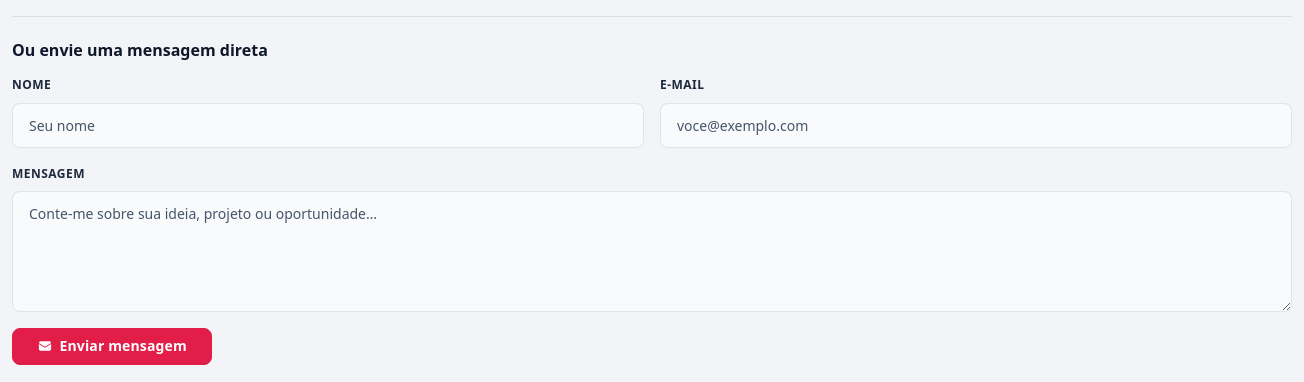
Test case: ContactForm › exibe erro quando o envio falha
Step 1. Type "Maria" into the field labelled "Nome" → (328, 125), box [12,103,644,148]
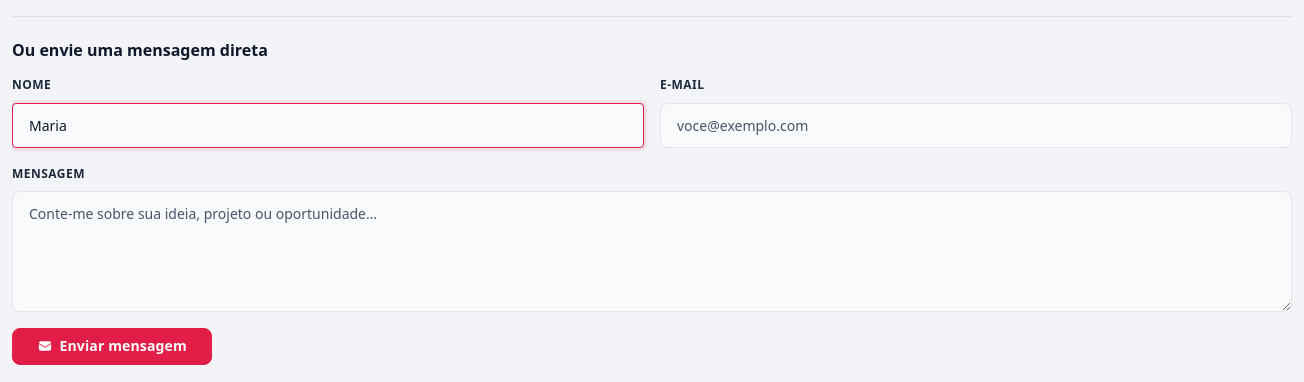
Step 2. Type "maria@exemplo.com" into the field labelled "E-mail" → (976, 125), box [660,103,1292,148]
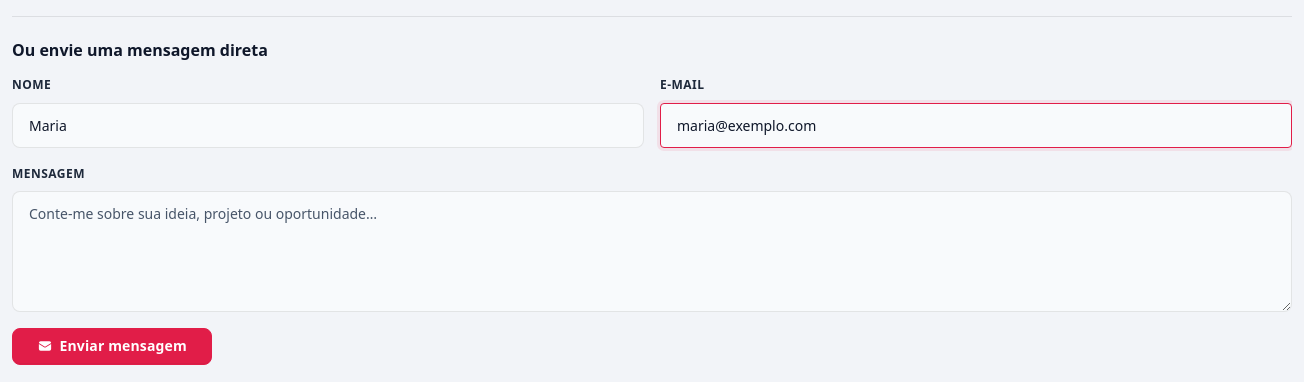
Step 3. Type "Mensagem longa o suficiente." into the text box labelled "Mensagem" → (652, 251), box [12,191,1292,312]
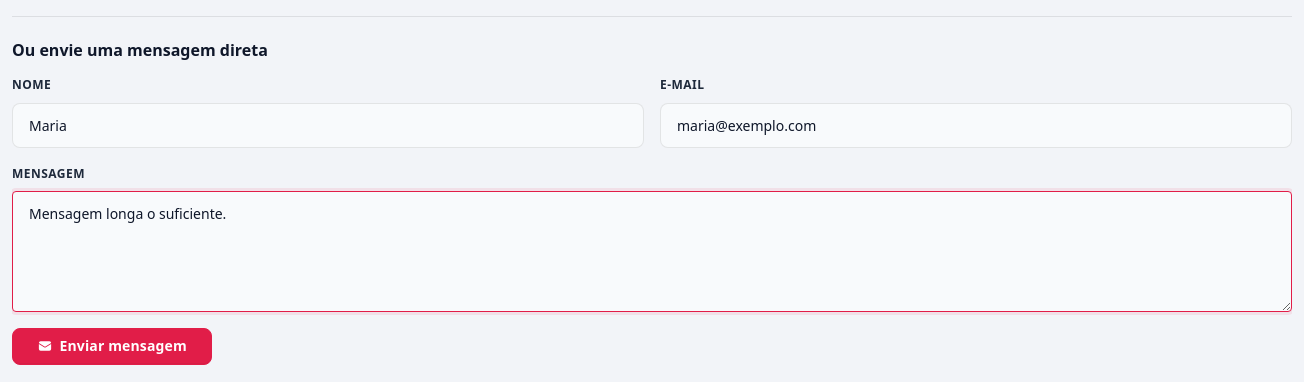
Step 4. Click the button "Enviar mensagem" → (112, 346), box [12,328,212,365]
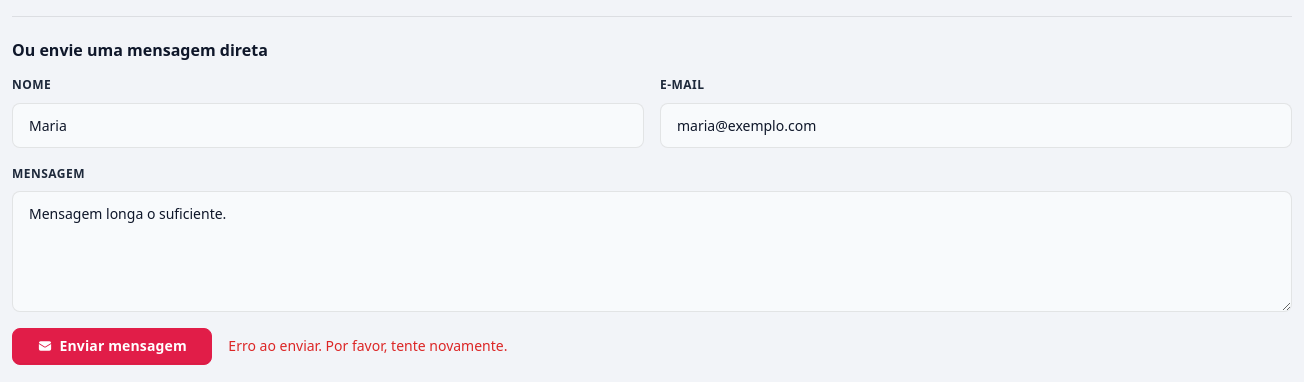
Expected: the text "Erro ao enviar. Por favor, tente novamente." is shown, [228,335,507,358]
